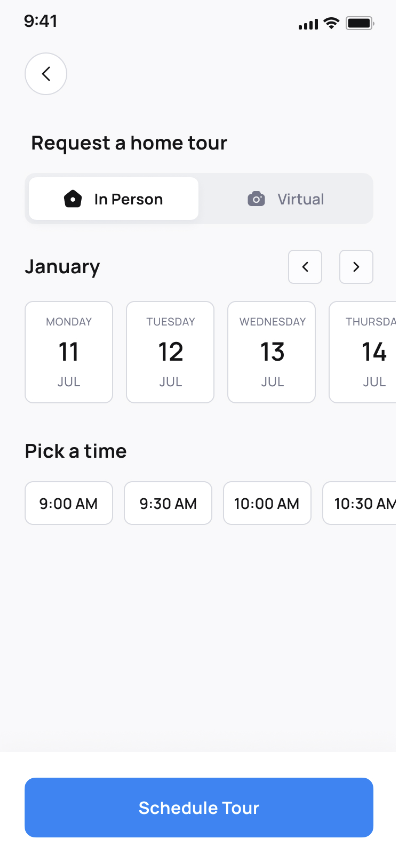IconButton: (22, 49, 68, 97)
